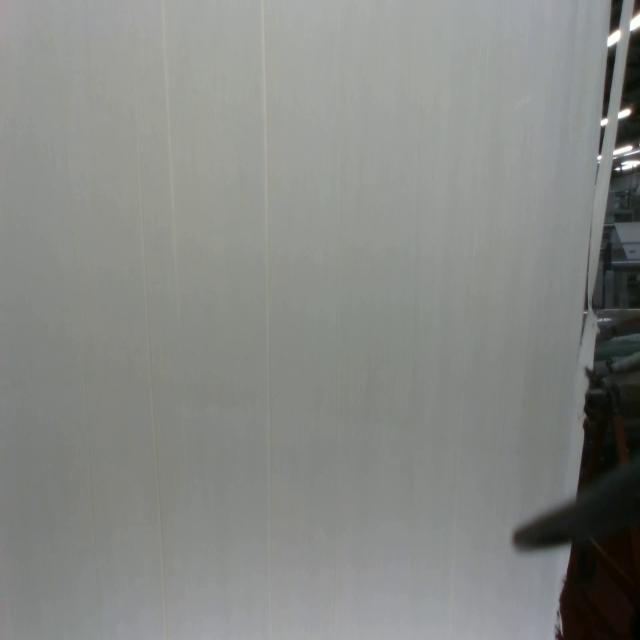crease: (137, 114, 167, 640), (261, 0, 275, 640), (160, 0, 182, 309)
